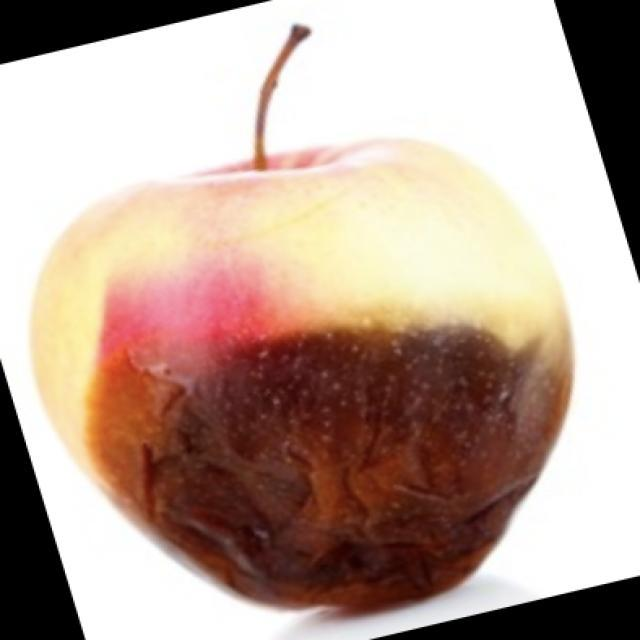Rotten: (39, 137, 594, 615)
